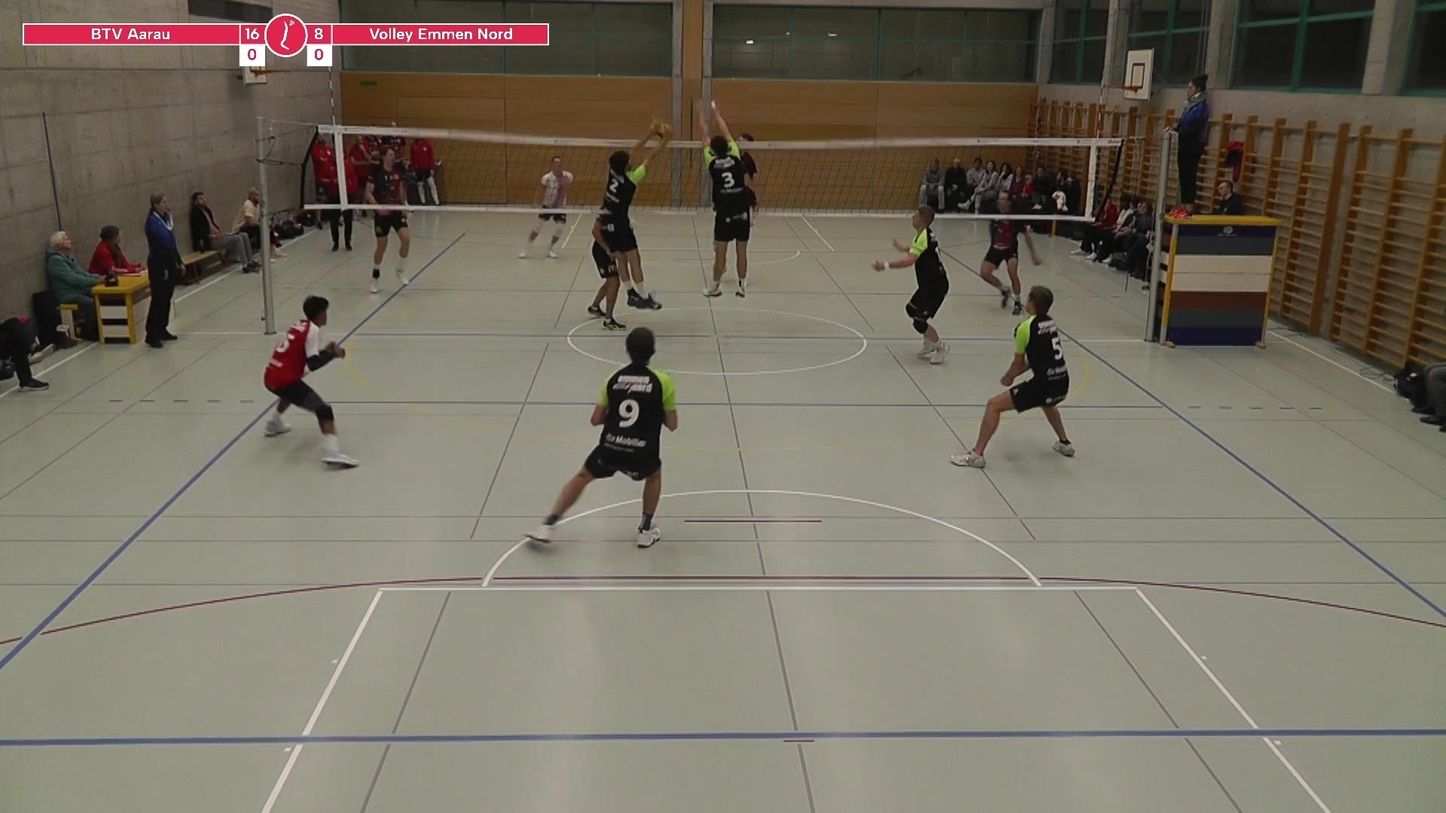Attack: (728, 114, 766, 223)
Block: (591, 113, 682, 323), (702, 98, 771, 303)
Player: (526, 327, 678, 547), (951, 285, 1075, 467), (264, 295, 358, 467), (872, 206, 948, 364), (980, 190, 1042, 315), (364, 147, 409, 293), (587, 218, 625, 330), (519, 211, 566, 257)
ball: (645, 120, 676, 150)
